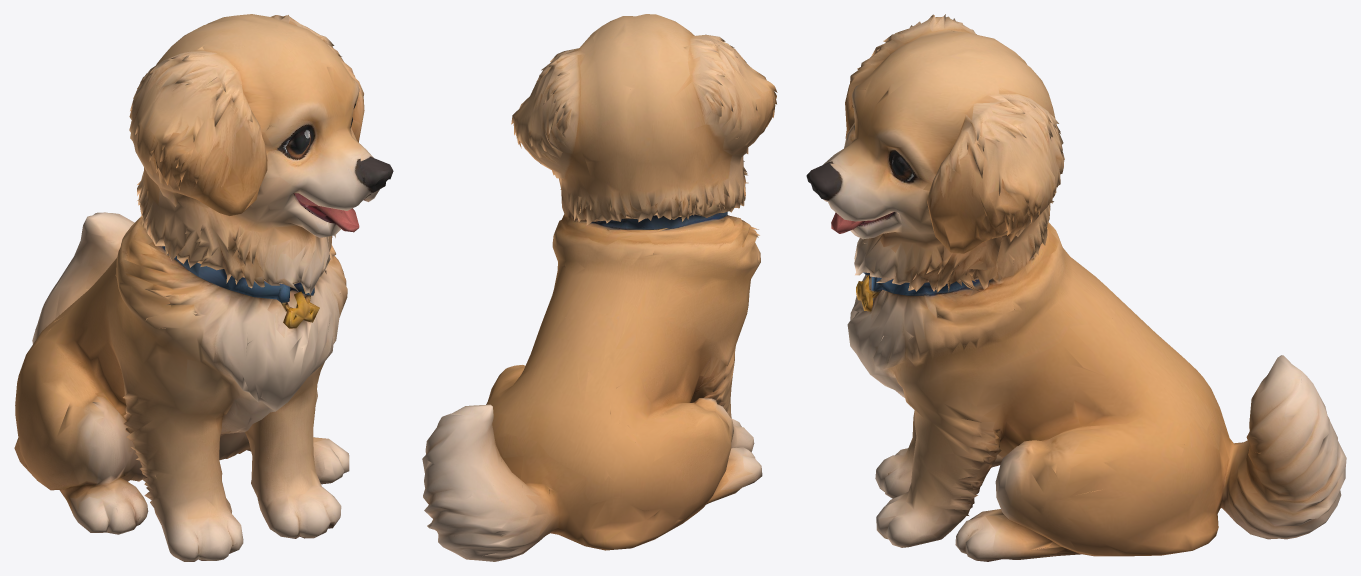
The model's file is pet_puppy_v01.glb.
The picture shows the model from 3 angles, left to right: view 1: azimuth 30°, elevation 25°; view 2: azimuth 150°, elevation 25°; view 3: azimuth 270°, elevation 25°; orthographic projection. The views are drawn at different scales.
Visible parts, largest first — view 1: Body; view 2: Body; view 3: Body.
Boxes of the visible parts, x1,y1,x2,y2 form: Body: [14, 14, 393, 561]; Body: [422, 14, 777, 561]; Body: [806, 14, 1346, 561].
Size of the model in its own units: 0.2595 by 0.4503 by 0.4595.
Materials: 1 (1 with a texture image).
